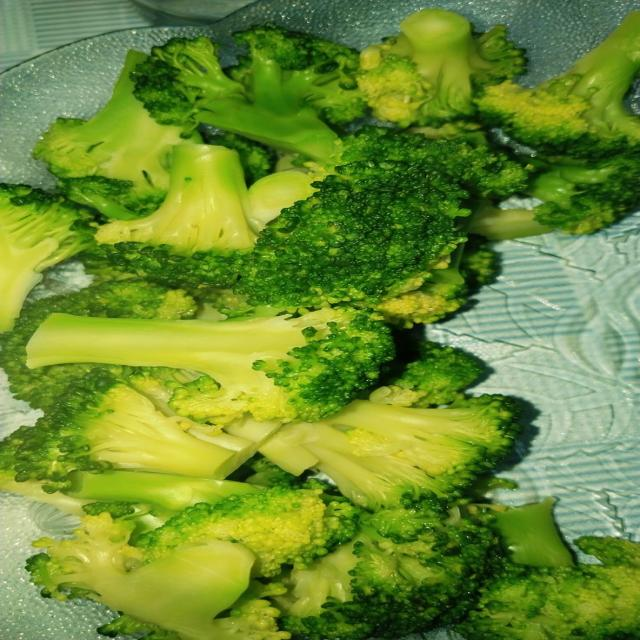broccoli: (236, 127, 529, 323), (27, 308, 393, 423), (81, 144, 313, 290), (9, 368, 279, 492), (133, 24, 366, 161), (275, 498, 496, 639), (260, 395, 519, 510), (27, 513, 255, 639), (34, 51, 200, 218), (0, 280, 196, 408), (0, 427, 259, 523), (476, 12, 639, 158), (94, 144, 255, 288), (137, 485, 360, 576), (358, 8, 526, 127), (456, 537, 639, 639), (469, 152, 639, 239), (0, 184, 93, 331), (377, 237, 498, 328), (527, 151, 639, 234), (370, 340, 484, 407), (489, 498, 573, 566), (207, 133, 277, 184)
